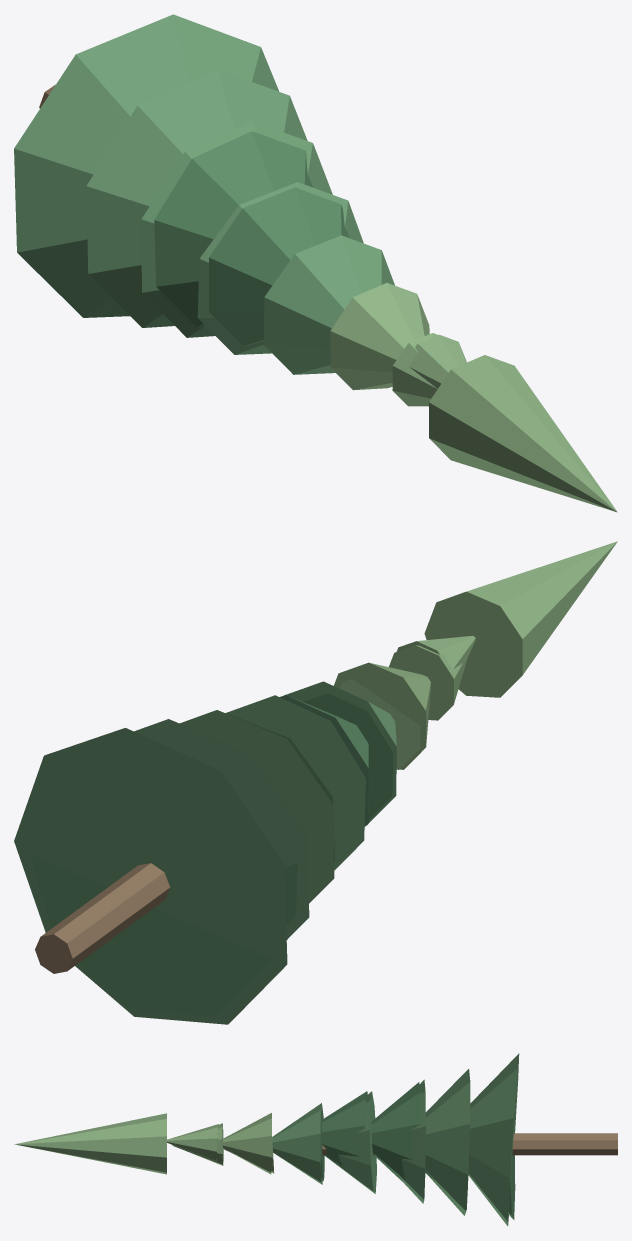
The model's file is Midgard_Nordic_Spruce_A.glb.
The picture shows the model from 3 angles, top to bottom: view 1: azimuth 30°, elevation 25°; view 2: azimuth 150°, elevation 25°; view 3: azimuth 270°, elevation 25°; orthographic projection. The views are drawn at different scales.
Visible parts, largest first — view 1: world; view 2: world; view 3: world.
Boxes of the visible parts, box(x1,y1,x2,y2) form: world: box(14, 14, 617, 512); world: box(14, 541, 617, 1024); world: box(14, 1053, 617, 1226).
Size of the model in its own units: 2.64 by 2.68 by 9.27.
